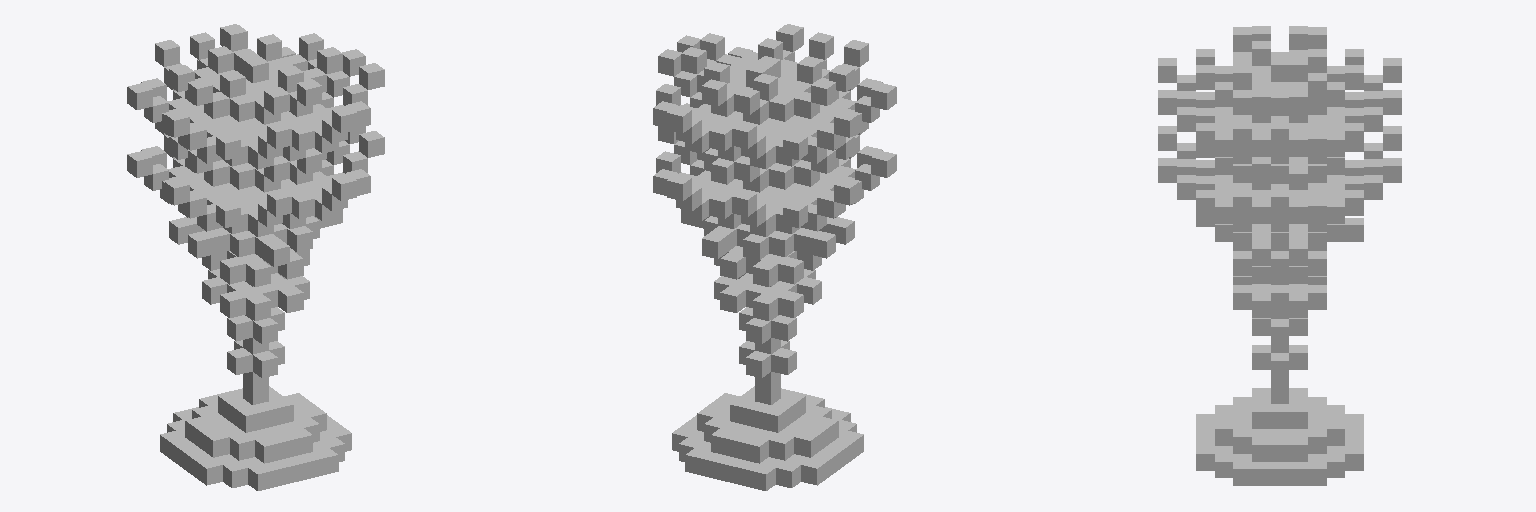
The model's file is Herbacea - Gergelim jovem.obj.
3 views of the same model, side by side, from view 1: azimuth 30°, elevation 25°; view 2: azimuth 150°, elevation 25°; view 3: azimuth 270°, elevation 25° (orthographic).
Parts seen in each view (by area): view 1: object 1; view 2: object 1; view 3: object 1.
Boxes of the visible parts, x1,y1,x2,y2 form: object 1: [127, 24, 384, 490]; object 1: [653, 24, 896, 490]; object 1: [1158, 26, 1401, 485].
Bounding box in the file's own units: 1.3 × 2.3 × 1.3.